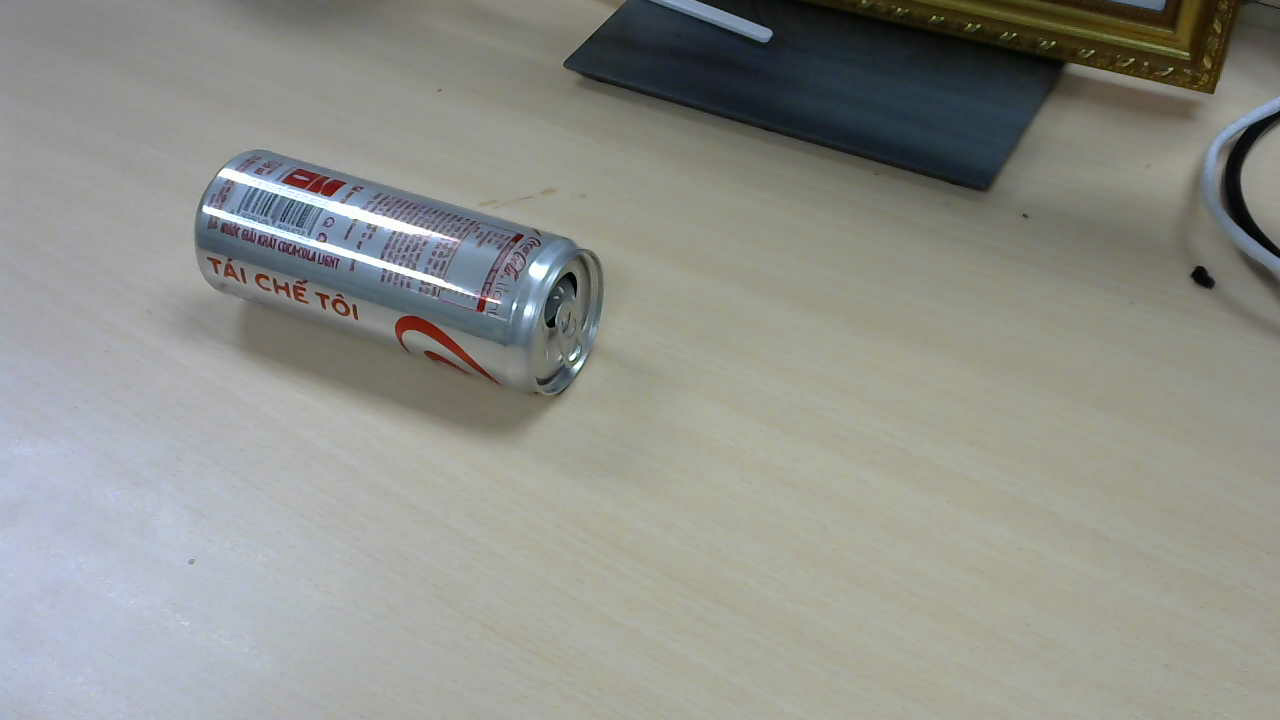Coca_Cola: (196, 152, 612, 401)
